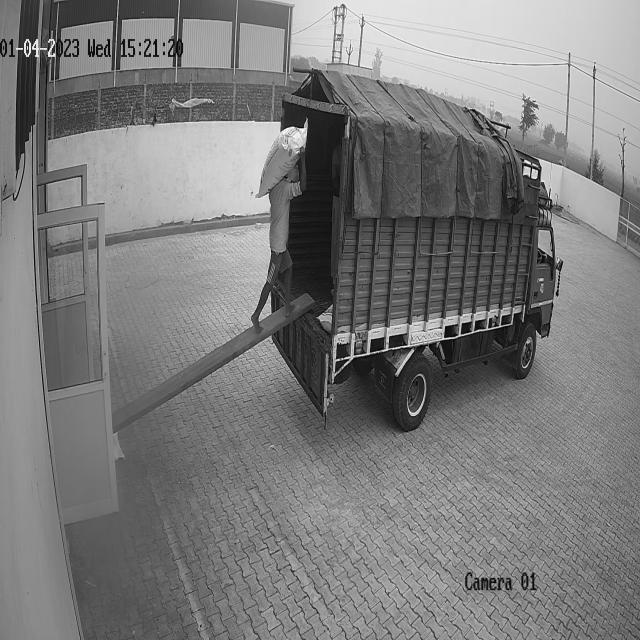sack: (256, 117, 308, 202)
